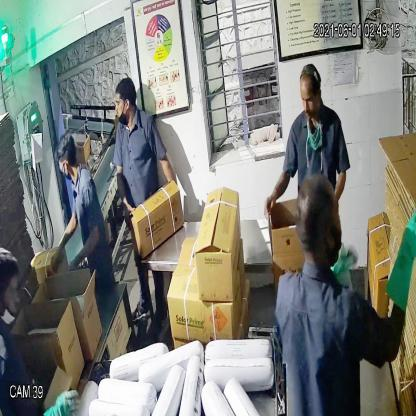no_goggles: (298, 87, 322, 110)
